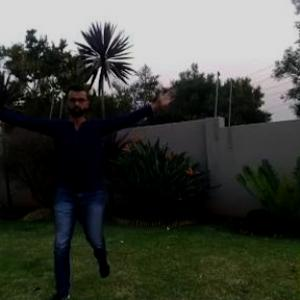takeoff: (1, 92, 177, 290)
